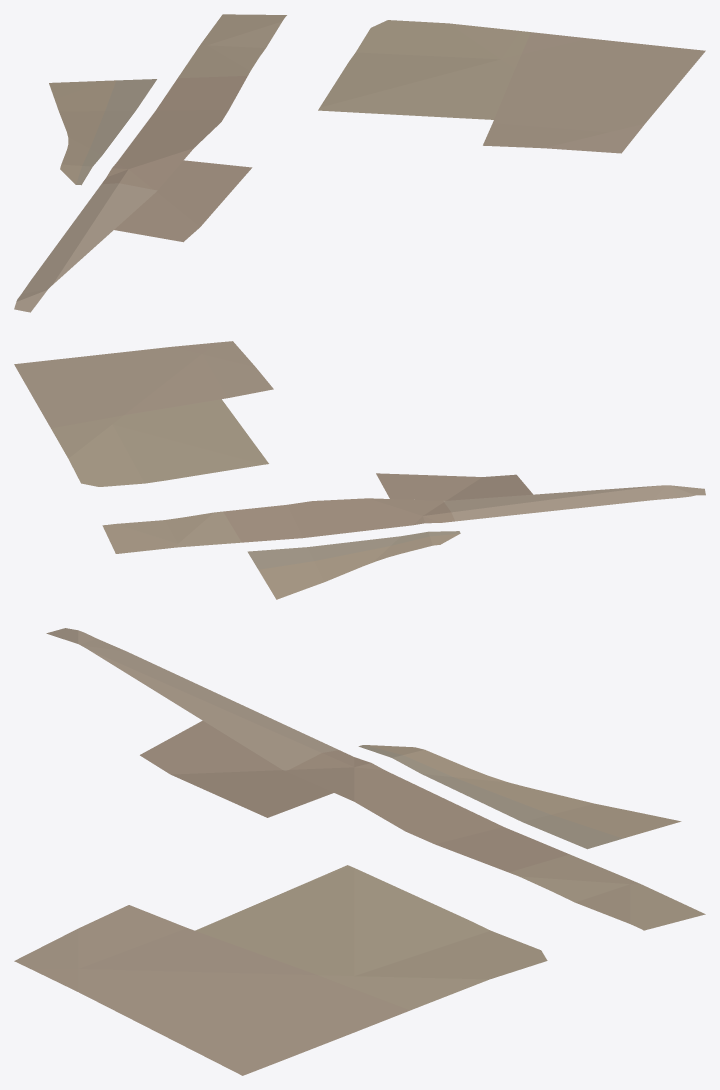
File: farm_18_7_soil.glb
3 views of the same model, one above another, from view 1: azimuth 30°, elevation 25°; view 2: azimuth 150°, elevation 25°; view 3: azimuth 270°, elevation 25° (orthographic). The views are drawn at different scales.
Visible parts, largest first — view 1: geometry_0; view 2: geometry_0; view 3: geometry_0.
Boxes of the visible parts, x1=… form: geometry_0: x1=14, y1=14, x2=705, y2=312; geometry_0: x1=14, y1=341, x2=705, y2=599; geometry_0: x1=14, y1=628, x2=705, y2=1075.
Size of the model in its own units: 327 by 17.93 by 201.
